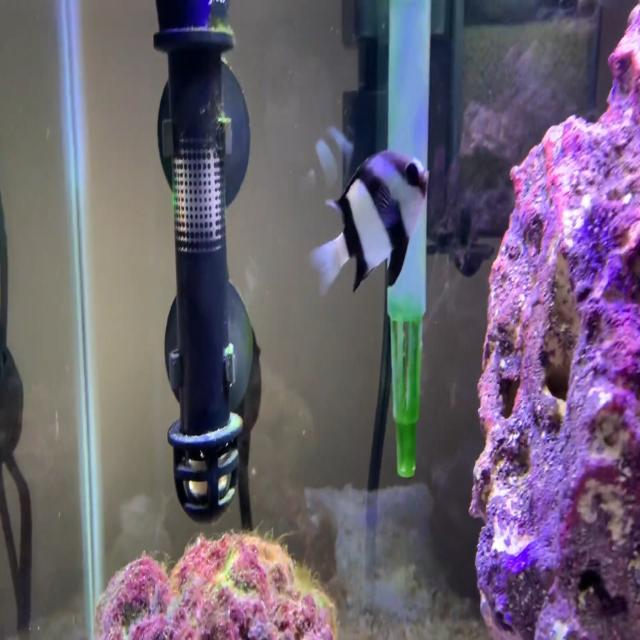ThreeStripedDamselfish: (310, 151, 426, 297)
